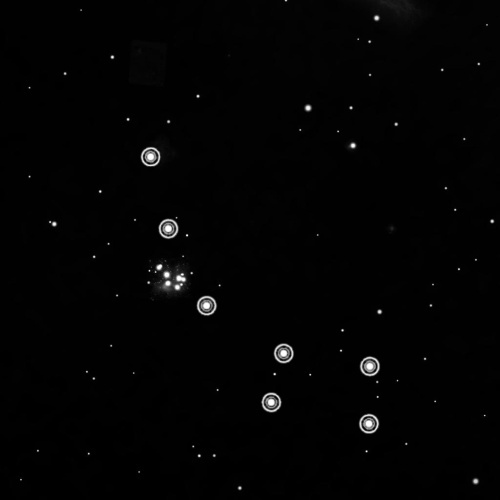ursa_minor: (133, 139, 390, 442)
